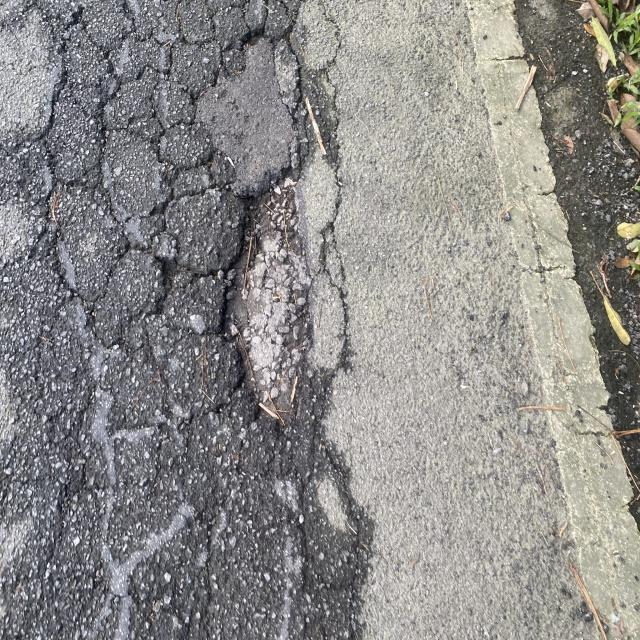Pothole: (171, 50, 322, 521)
